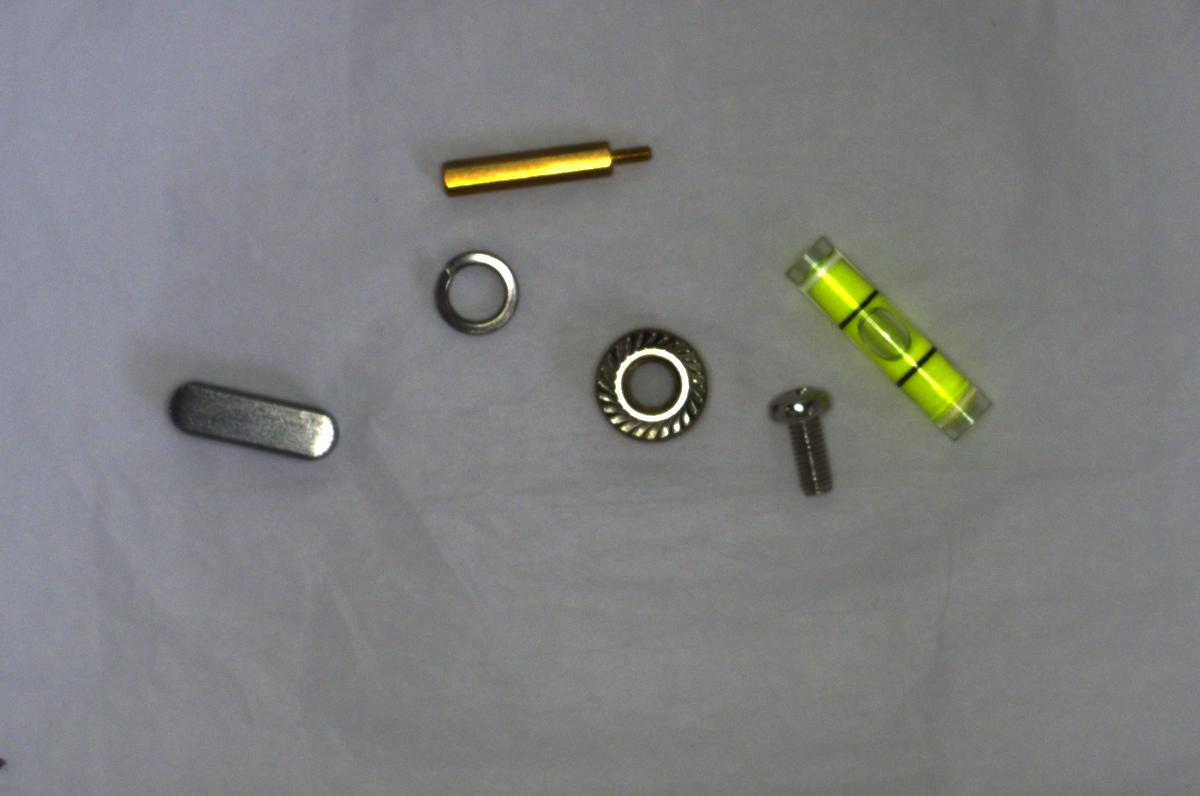Flange nut: (577, 320, 720, 452)
Hexagon pillar: (433, 121, 665, 214)
Horizontal bubble: (774, 227, 999, 441)
Keybar: (157, 368, 344, 473)
Round head screw: (759, 375, 842, 500)
Spring washer: (431, 240, 525, 346)
